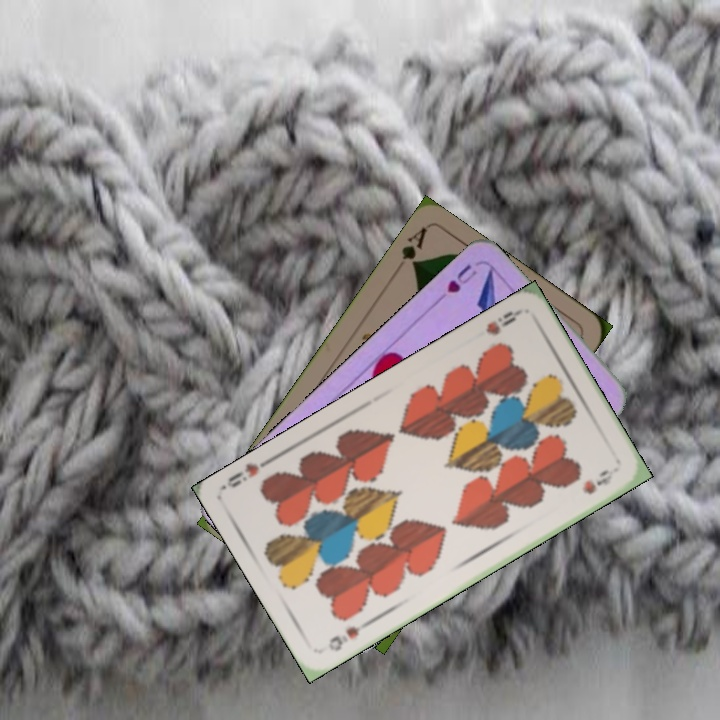GA: (397, 224, 429, 270)
H9: (324, 617, 372, 654), (482, 306, 523, 338)
HU: (432, 260, 480, 305)
